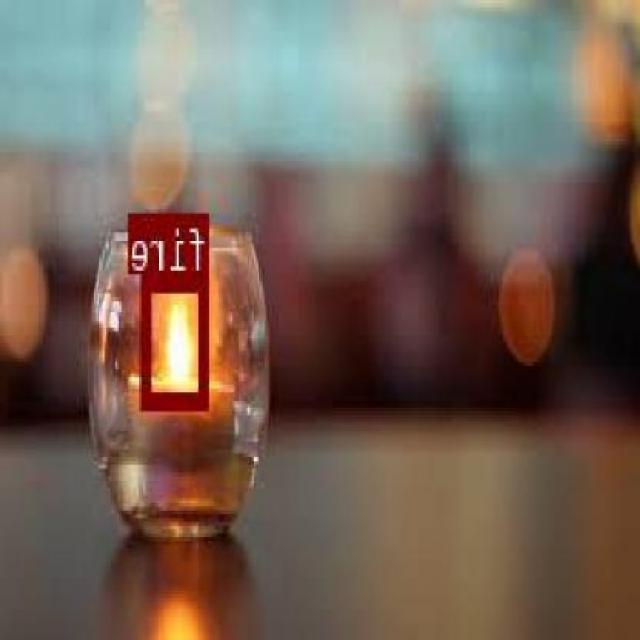fire: (143, 272, 209, 406)
